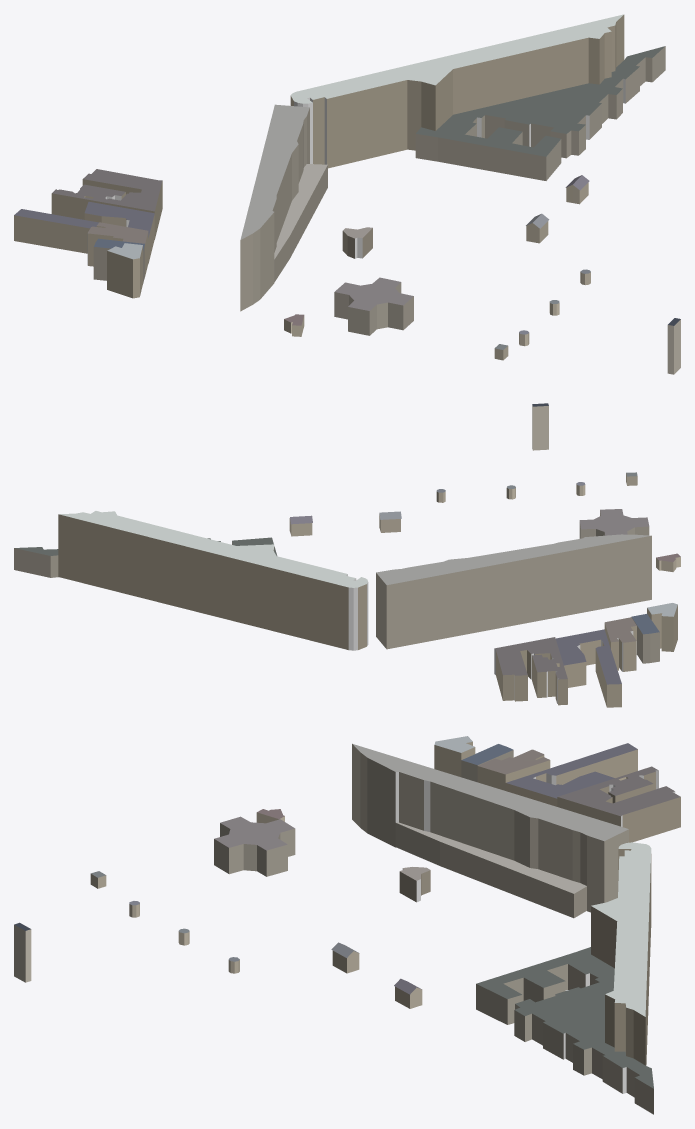
3 renders of one model, top to bottom at view 1: azimuth 30°, elevation 25°; view 2: azimuth 150°, elevation 25°; view 3: azimuth 270°, elevation 25°, orthographic. The views are drawn at different scales.
Visible parts, largest first — view 1: tuile; view 2: tuile; view 3: tuile.
Part boxes in pixels (left/top/right/bottom): tuile: left=14, top=14, right=680, bottom=374; tuile: left=14, top=403, right=680, bottom=707; tuile: left=14, top=736, right=680, bottom=1114.
Size of the model in its own units: 324 by 39.69 by 266.
